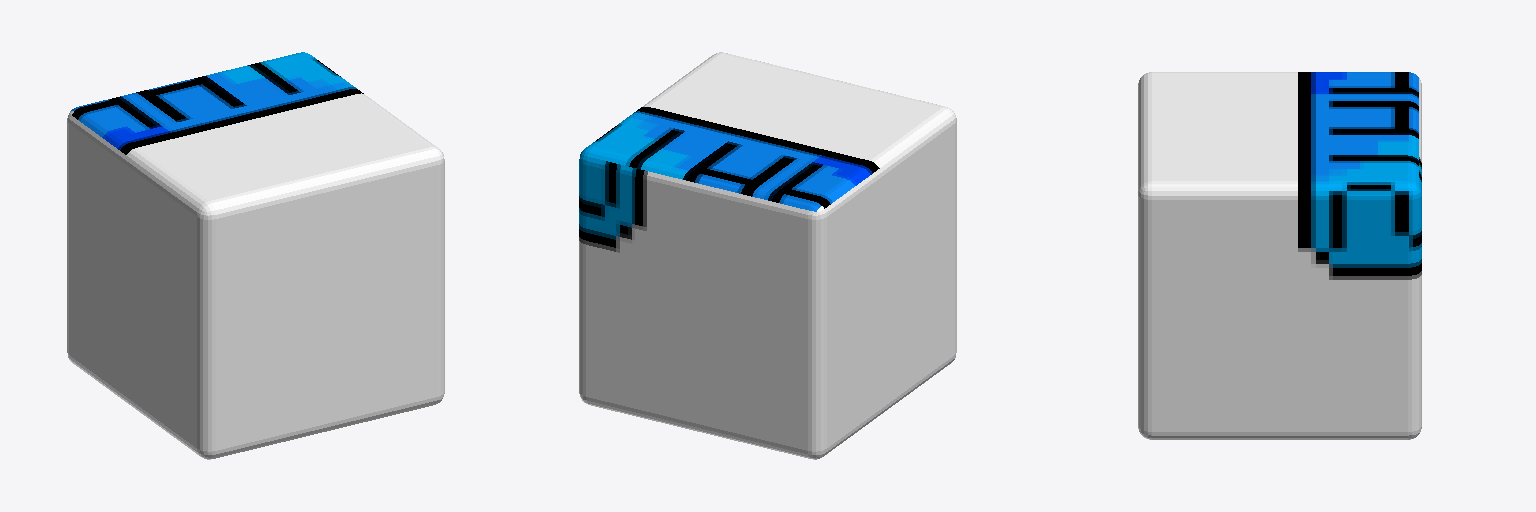
The picture shows the model from 3 angles: view 1: azimuth 30°, elevation 25°; view 2: azimuth 150°, elevation 25°; view 3: azimuth 270°, elevation 25°; orthographic projection.
Parts seen in each view (by area): view 1: Cube_Finished_Cube.001; view 2: Cube_Finished_Cube.001; view 3: Cube_Finished_Cube.001.
Part boxes in pixels (left/top/right/bottom): Cube_Finished_Cube.001: left=67, top=52, right=444, bottom=459; Cube_Finished_Cube.001: left=579, top=52, right=956, bottom=459; Cube_Finished_Cube.001: left=1138, top=72, right=1421, bottom=439.
Bounding box in the file's own units: 2 × 2 × 2.
Materials: 1 (1 with a texture image).